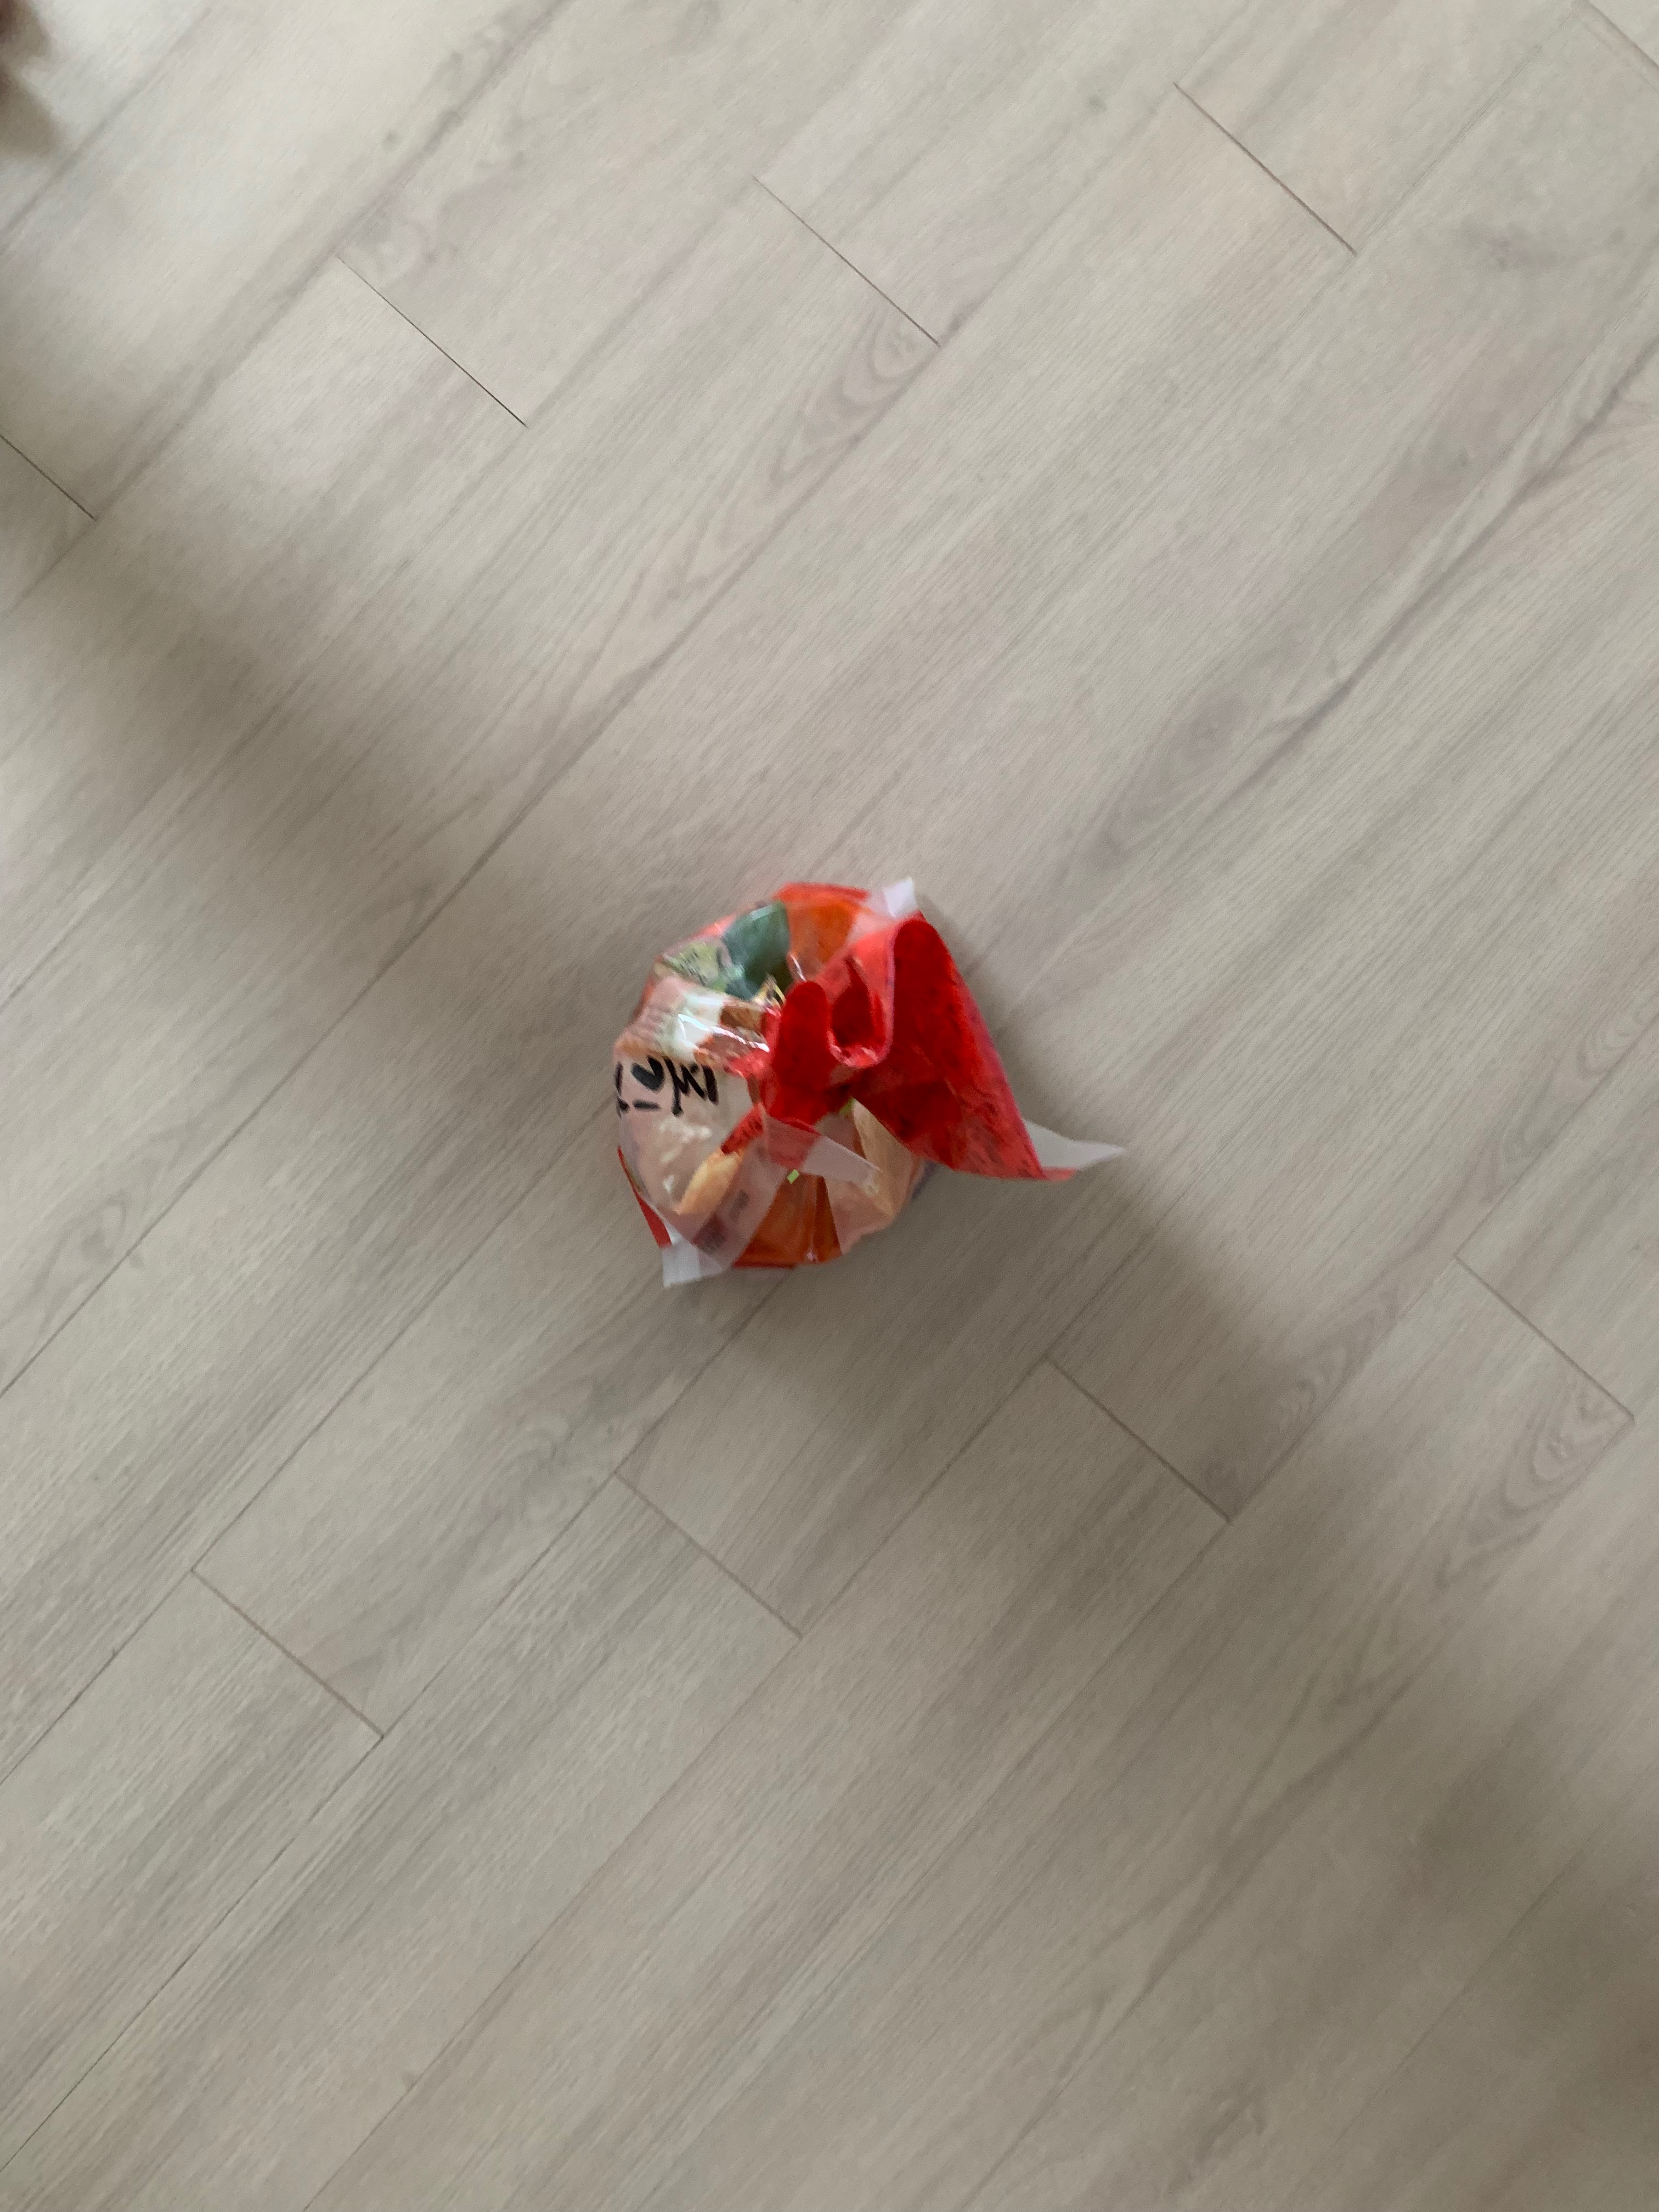kimchi: (613, 881, 1032, 1273)
